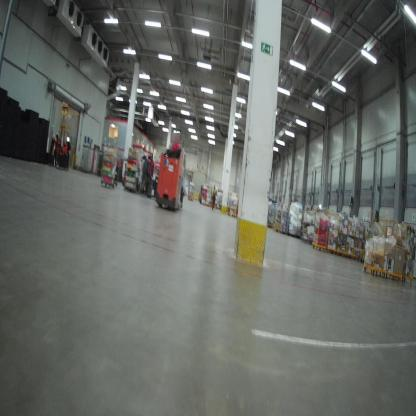pallet_truck: (151, 147, 189, 216), (128, 160, 161, 199)
